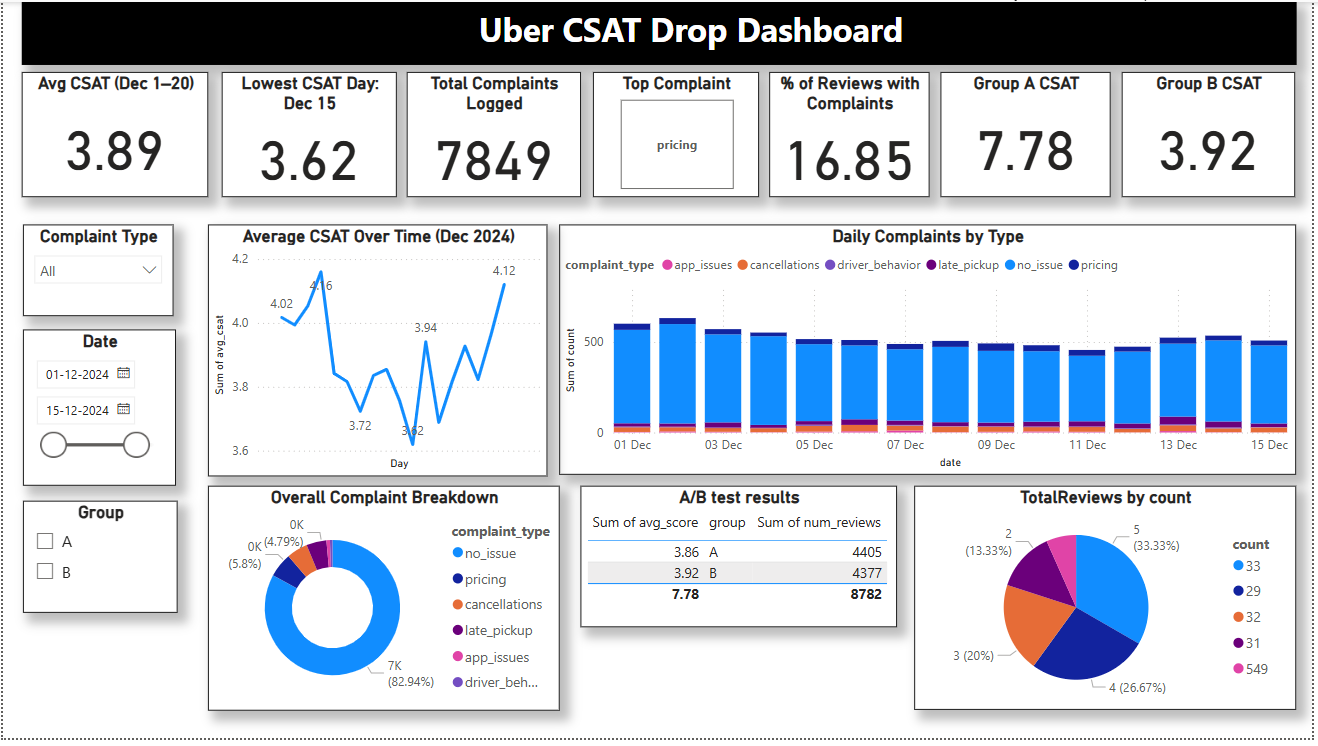

The page's visual inventory and layout, read from the dashboard file:
{"tool":"powerbi","page":{"name":"Page 1","canvas":[1280,720],"ordinal":0},"visuals":[{"type":"columnChart","title":"Daily Complaints by Type","fields":{"Category":["daily_complaints.date"],"Series":["daily_complaints.complaint_type"],"Y":["Sum(daily_complaints.count)"]},"box":[544.7,218.2,720.5,244.7],"z":0},{"type":"lineChart","title":"Average CSAT Over Time (Dec 2024)","fields":{"Category":["daily_csat.date.Variation.Date Hierarchy.Day"],"Y":["Sum(daily_csat.avg_csat)"]},"box":[201,218.1,332.1,246.6],"z":1000},{"type":"donutChart","title":"Overall Complaint Breakdown","fields":{"Y":["Sum(daily_complaints.count)"],"Category":["daily_complaints.complaint_type"]},"box":[200.4,473,344.3,220],"z":2000},{"type":"tableEx","title":"A/B test results","fields":{"Values":["Sum(ab_group_summary.avg_score)","ab_group_summary.group","Sum(ab_group_summary.num_reviews)"]},"box":[564.5,473.2,309.3,138.3],"z":3000},{"type":"slicer","title":"Complaint Type","fields":{"Values":["daily_complaints.complaint_type"]},"box":[20,218.1,146.8,89.8],"z":3001},{"type":"slicer","title":"Date","fields":{"Values":["daily_complaints.date"]},"box":[20,320.7,149.7,152.5],"z":3002},{"type":"slicer","title":"Group","fields":{"Values":["ab_group_summary.group"]},"box":[20,487.5,151.1,109.8],"z":3003},{"type":"textbox","box":[17.8,0,1247.3,61.7],"z":3004},{"type":"card","title":"Avg CSAT (Dec 1–20)","fields":{"Values":["Avg(daily_csat.avg_csat)"]},"box":[18.5,68.4,182.4,122.6],"z":3005},{"type":"card","title":"Lowest CSAT Day: Dec 15","fields":{"Values":["Min(daily_csat.avg_csat)"]},"box":[213.8,68.4,171,122.6],"z":3006},{"type":"card","title":"Total Complaints Logged","fields":{"Values":["Sum(daily_complaints.count)"]},"box":[395.3,68.6,170.2,122.1],"z":3007},{"type":"slicer","title":"Top Complaint","fields":{"Values":["daily_complaints.complaint_type"]},"box":[577.3,68.4,162.5,122.6],"z":3008},{"type":"card","title":" % of Reviews with Complaints","fields":{"Values":["daily_complaints.ComplaintPercent"]},"box":[749.8,68.4,156.8,122.6],"z":3009},{"type":"card","title":"Group A CSAT","fields":{"Values":["Sum(ab_group_summary.avg_score)"]},"box":[916.5,68.4,166.8,122.6],"z":3010},{"type":"card","title":"Group B CSAT","fields":{"Values":["Sum(ab_group_summary.avg_score)"]},"box":[1094.7,68.4,169.6,122.6],"z":3011},{"type":"pieChart","fields":{"Category":["daily_complaints.count"],"Y":["daily_complaints.TotalReviews"]},"box":[890.9,473.2,373.5,219.5],"z":3012}]}

Visuals, with their boxes in screenshot pixels (x1, y1, x2, y2), scaled from the page's 1280x720 canvas onto the 1318x746 screenshot:
"Daily Complaints by Type" columnChart: box(561, 226, 1303, 480)
"Average CSAT Over Time (Dec 2024)" lineChart: box(207, 226, 549, 481)
"Overall Complaint Breakdown" donutChart: box(206, 490, 561, 718)
"A/B test results" tableEx: box(581, 490, 900, 634)
"Complaint Type" slicer: box(21, 226, 172, 319)
"Date" slicer: box(21, 332, 175, 490)
"Group" slicer: box(21, 505, 176, 619)
textbox: box(18, 0, 1303, 64)
"Avg CSAT (Dec 1–20)" card: box(19, 71, 207, 198)
"Lowest CSAT Day: Dec 15" card: box(220, 71, 396, 198)
"Total Complaints Logged" card: box(407, 71, 582, 198)
"Top Complaint" slicer: box(594, 71, 762, 198)
" % of Reviews with Complaints" card: box(772, 71, 934, 198)
"Group A CSAT" card: box(944, 71, 1115, 198)
"Group B CSAT" card: box(1127, 71, 1302, 198)
pieChart - daily_complaints.count x daily_complaints.TotalReviews: box(917, 490, 1302, 718)
